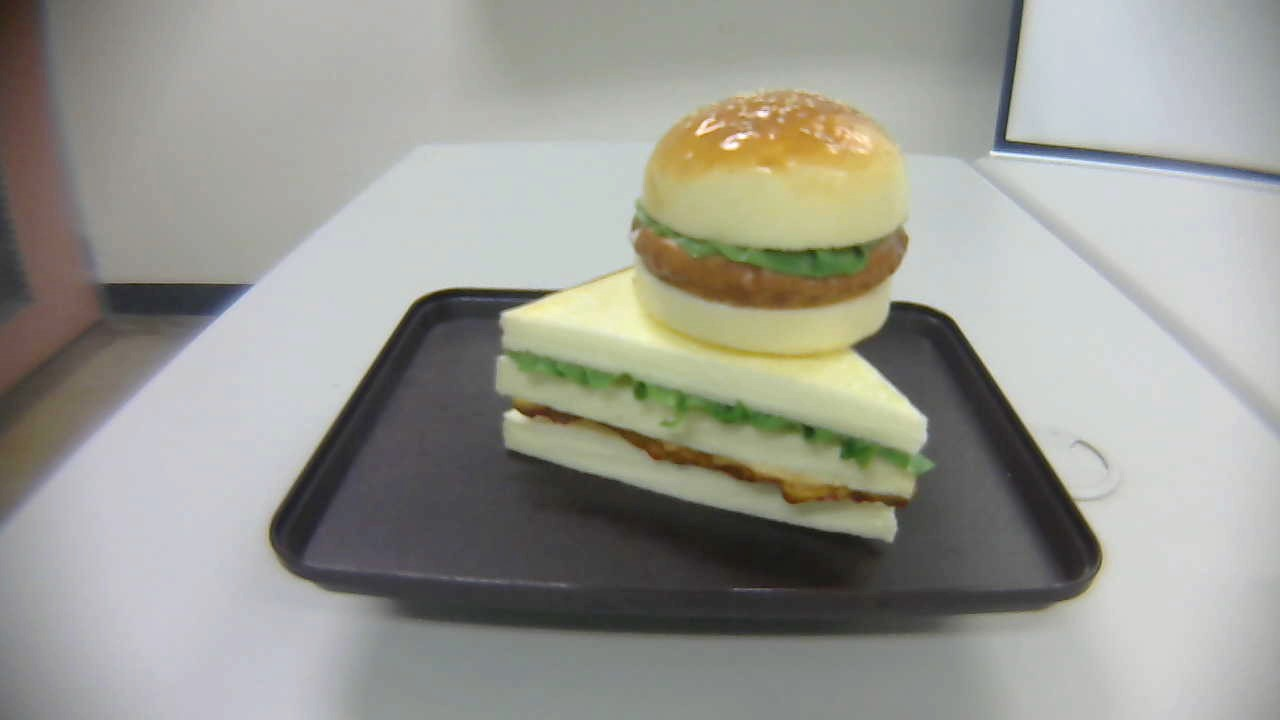hamburger: (629, 86, 911, 356)
sandwich: (496, 250, 931, 547)
